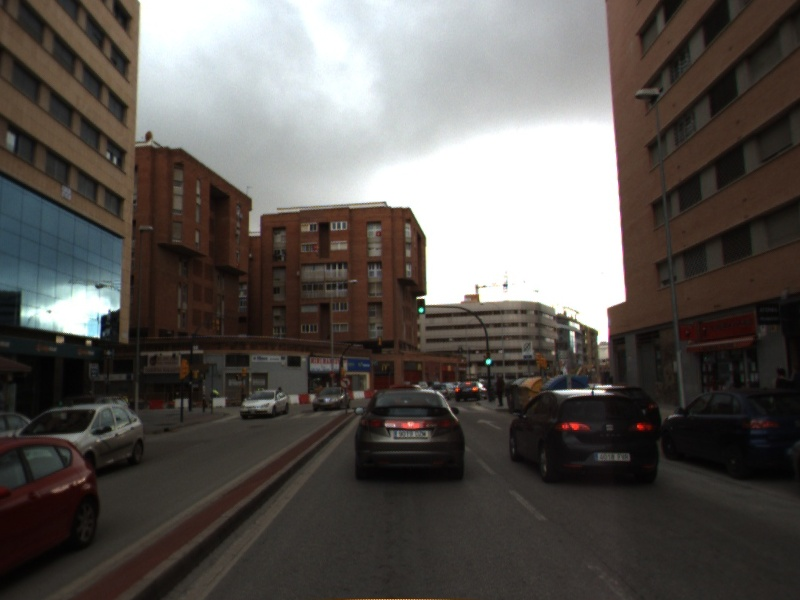STRAIGHT: (474, 416, 504, 432)
